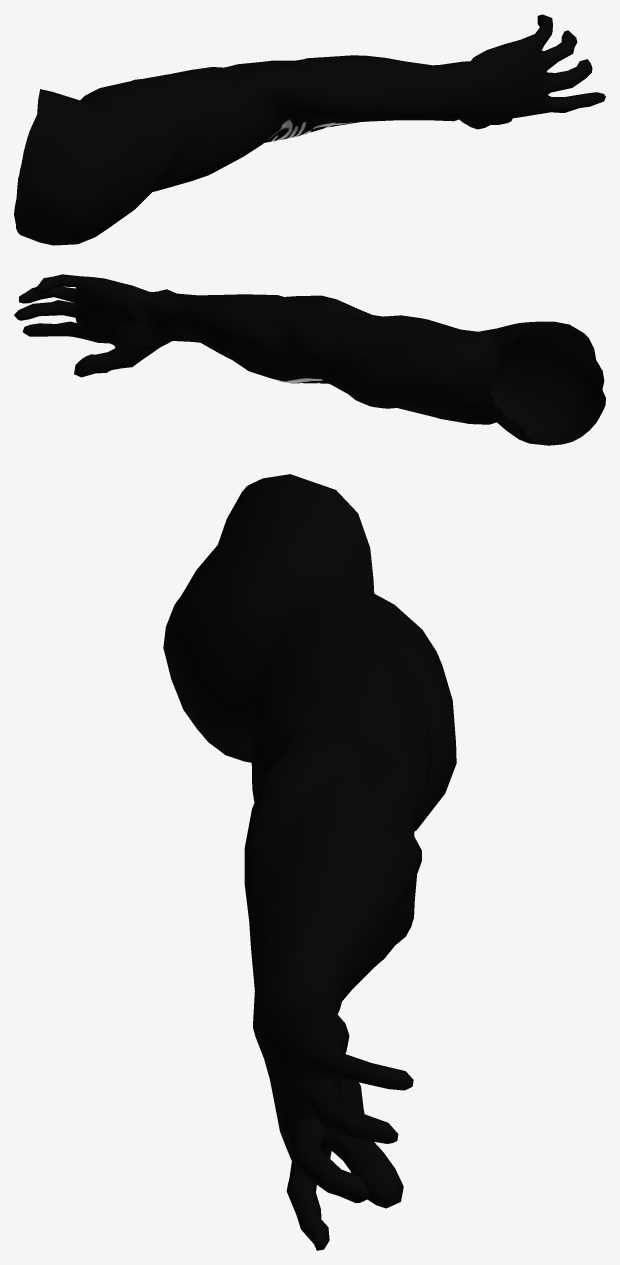
File: studi_ruka.glb
3 views of the same model, one above another, from view 1: azimuth 30°, elevation 25°; view 2: azimuth 150°, elevation 25°; view 3: azimuth 270°, elevation 25° (orthographic). The views are drawn at different scales.
Parts seen in each view (by area): view 1: 333.001; view 2: 333.001; view 3: 333.001.
Part boxes in pixels (x1=…): 333.001: x1=14, y1=14, x2=605, y2=245; 333.001: x1=14, y1=274, x2=605, y2=445; 333.001: x1=163, y1=474, x2=456, y2=1250.
Size of the model in its own units: 0.8642 by 0.2179 by 0.1959.
Materials: 1 (1 with a texture image).
